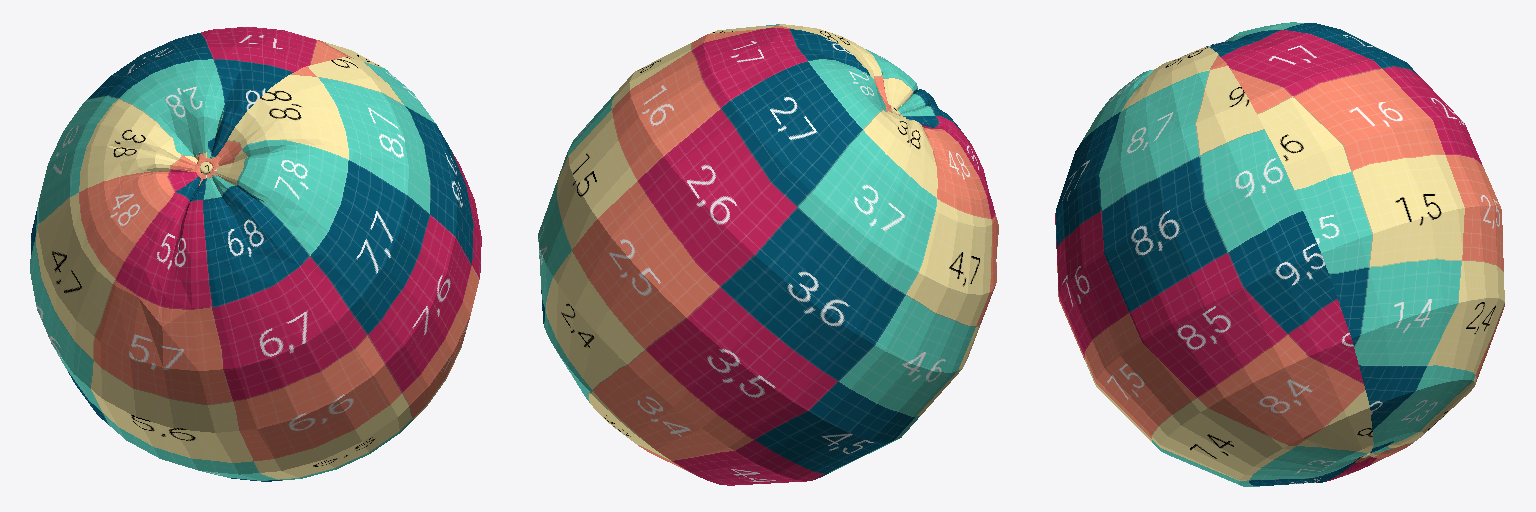
The picture shows the model from 3 angles: view 1: azimuth 30°, elevation 25°; view 2: azimuth 150°, elevation 25°; view 3: azimuth 270°, elevation 25°; orthographic projection.
Visible parts, largest first — view 1: OrangeUV Fruit_Bowl; view 2: OrangeUV Fruit_Bowl; view 3: OrangeUV Fruit_Bowl.
Boxes of the visible parts, <box> form: OrangeUV Fruit_Bowl: <box>30,27,481,481</box>; OrangeUV Fruit_Bowl: <box>538,24,998,485</box>; OrangeUV Fruit_Bowl: <box>1055,22,1504,486</box>.
Size of the model in its own units: 9.13 by 9.19 by 8.92.
1 materials, 1 textured.